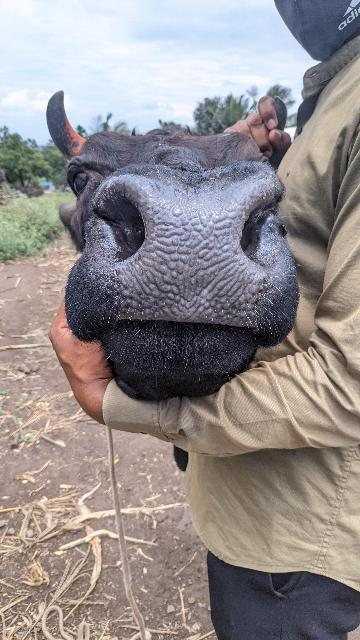Muzzle: (128, 178, 250, 306)
